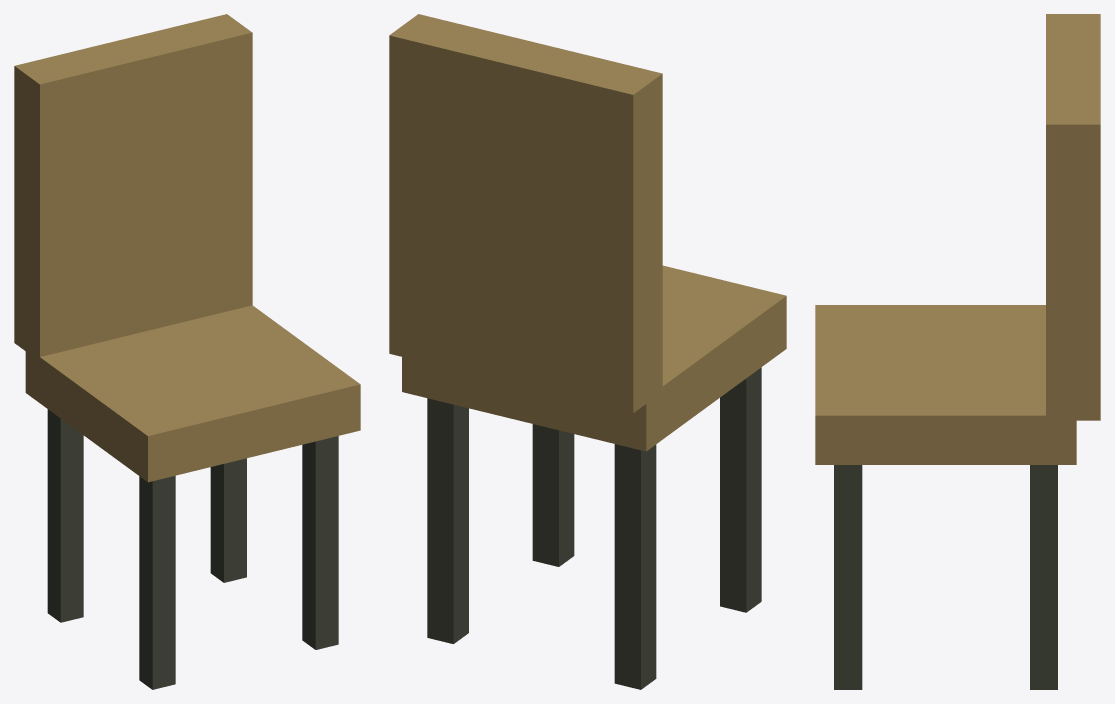
The model's file is chair.glb.
3 renders of one model, left to right at view 1: azimuth 30°, elevation 25°; view 2: azimuth 150°, elevation 25°; view 3: azimuth 270°, elevation 25°, orthographic. The views are drawn at different scales.
Parts seen in each view (by area): view 1: REF-L05-R01-chair-part-2, REF-L05-R01-chair-part-1, REF-L05-R01-chair-part-4, REF-L05-R01-chair-part-6, REF-L05-R01-chair-part-3, REF-L05-R01-chair-part-5; view 2: REF-L05-R01-chair-part-2, REF-L05-R01-chair-part-1, REF-L05-R01-chair-part-3, REF-L05-R01-chair-part-5, REF-L05-R01-chair-part-4, REF-L05-R01-chair-part-6; view 3: REF-L05-R01-chair-part-1, REF-L05-R01-chair-part-2, REF-L05-R01-chair-part-6, REF-L05-R01-chair-part-5.
Part boxes in pixels (x1=…): REF-L05-R01-chair-part-2: x1=14, y1=14, x2=252, y2=361; REF-L05-R01-chair-part-1: x1=25, y1=305, x2=360, y2=482; REF-L05-R01-chair-part-4: x1=139, y1=475, x2=175, y2=689; REF-L05-R01-chair-part-6: x1=302, y1=436, x2=338, y2=649; REF-L05-R01-chair-part-3: x1=47, y1=409, x2=83, y2=622; REF-L05-R01-chair-part-5: x1=210, y1=458, x2=246, y2=582; REF-L05-R01-chair-part-2: x1=389, y1=14, x2=662, y2=413; REF-L05-R01-chair-part-1: x1=402, y1=265, x2=786, y2=451; REF-L05-R01-chair-part-3: x1=614, y1=444, x2=656, y2=689; REF-L05-R01-chair-part-5: x1=427, y1=398, x2=468, y2=643; REF-L05-R01-chair-part-4: x1=720, y1=367, x2=761, y2=612; REF-L05-R01-chair-part-6: x1=532, y1=424, x2=574, y2=566; REF-L05-R01-chair-part-1: x1=815, y1=305, x2=1076, y2=464; REF-L05-R01-chair-part-2: x1=1046, y1=14, x2=1100, y2=420; REF-L05-R01-chair-part-6: x1=834, y1=465, x2=862, y2=689; REF-L05-R01-chair-part-5: x1=1030, y1=465, x2=1057, y2=689.
Bounding box in the file's own units: 0.1204 × 0.29 × 0.131.
